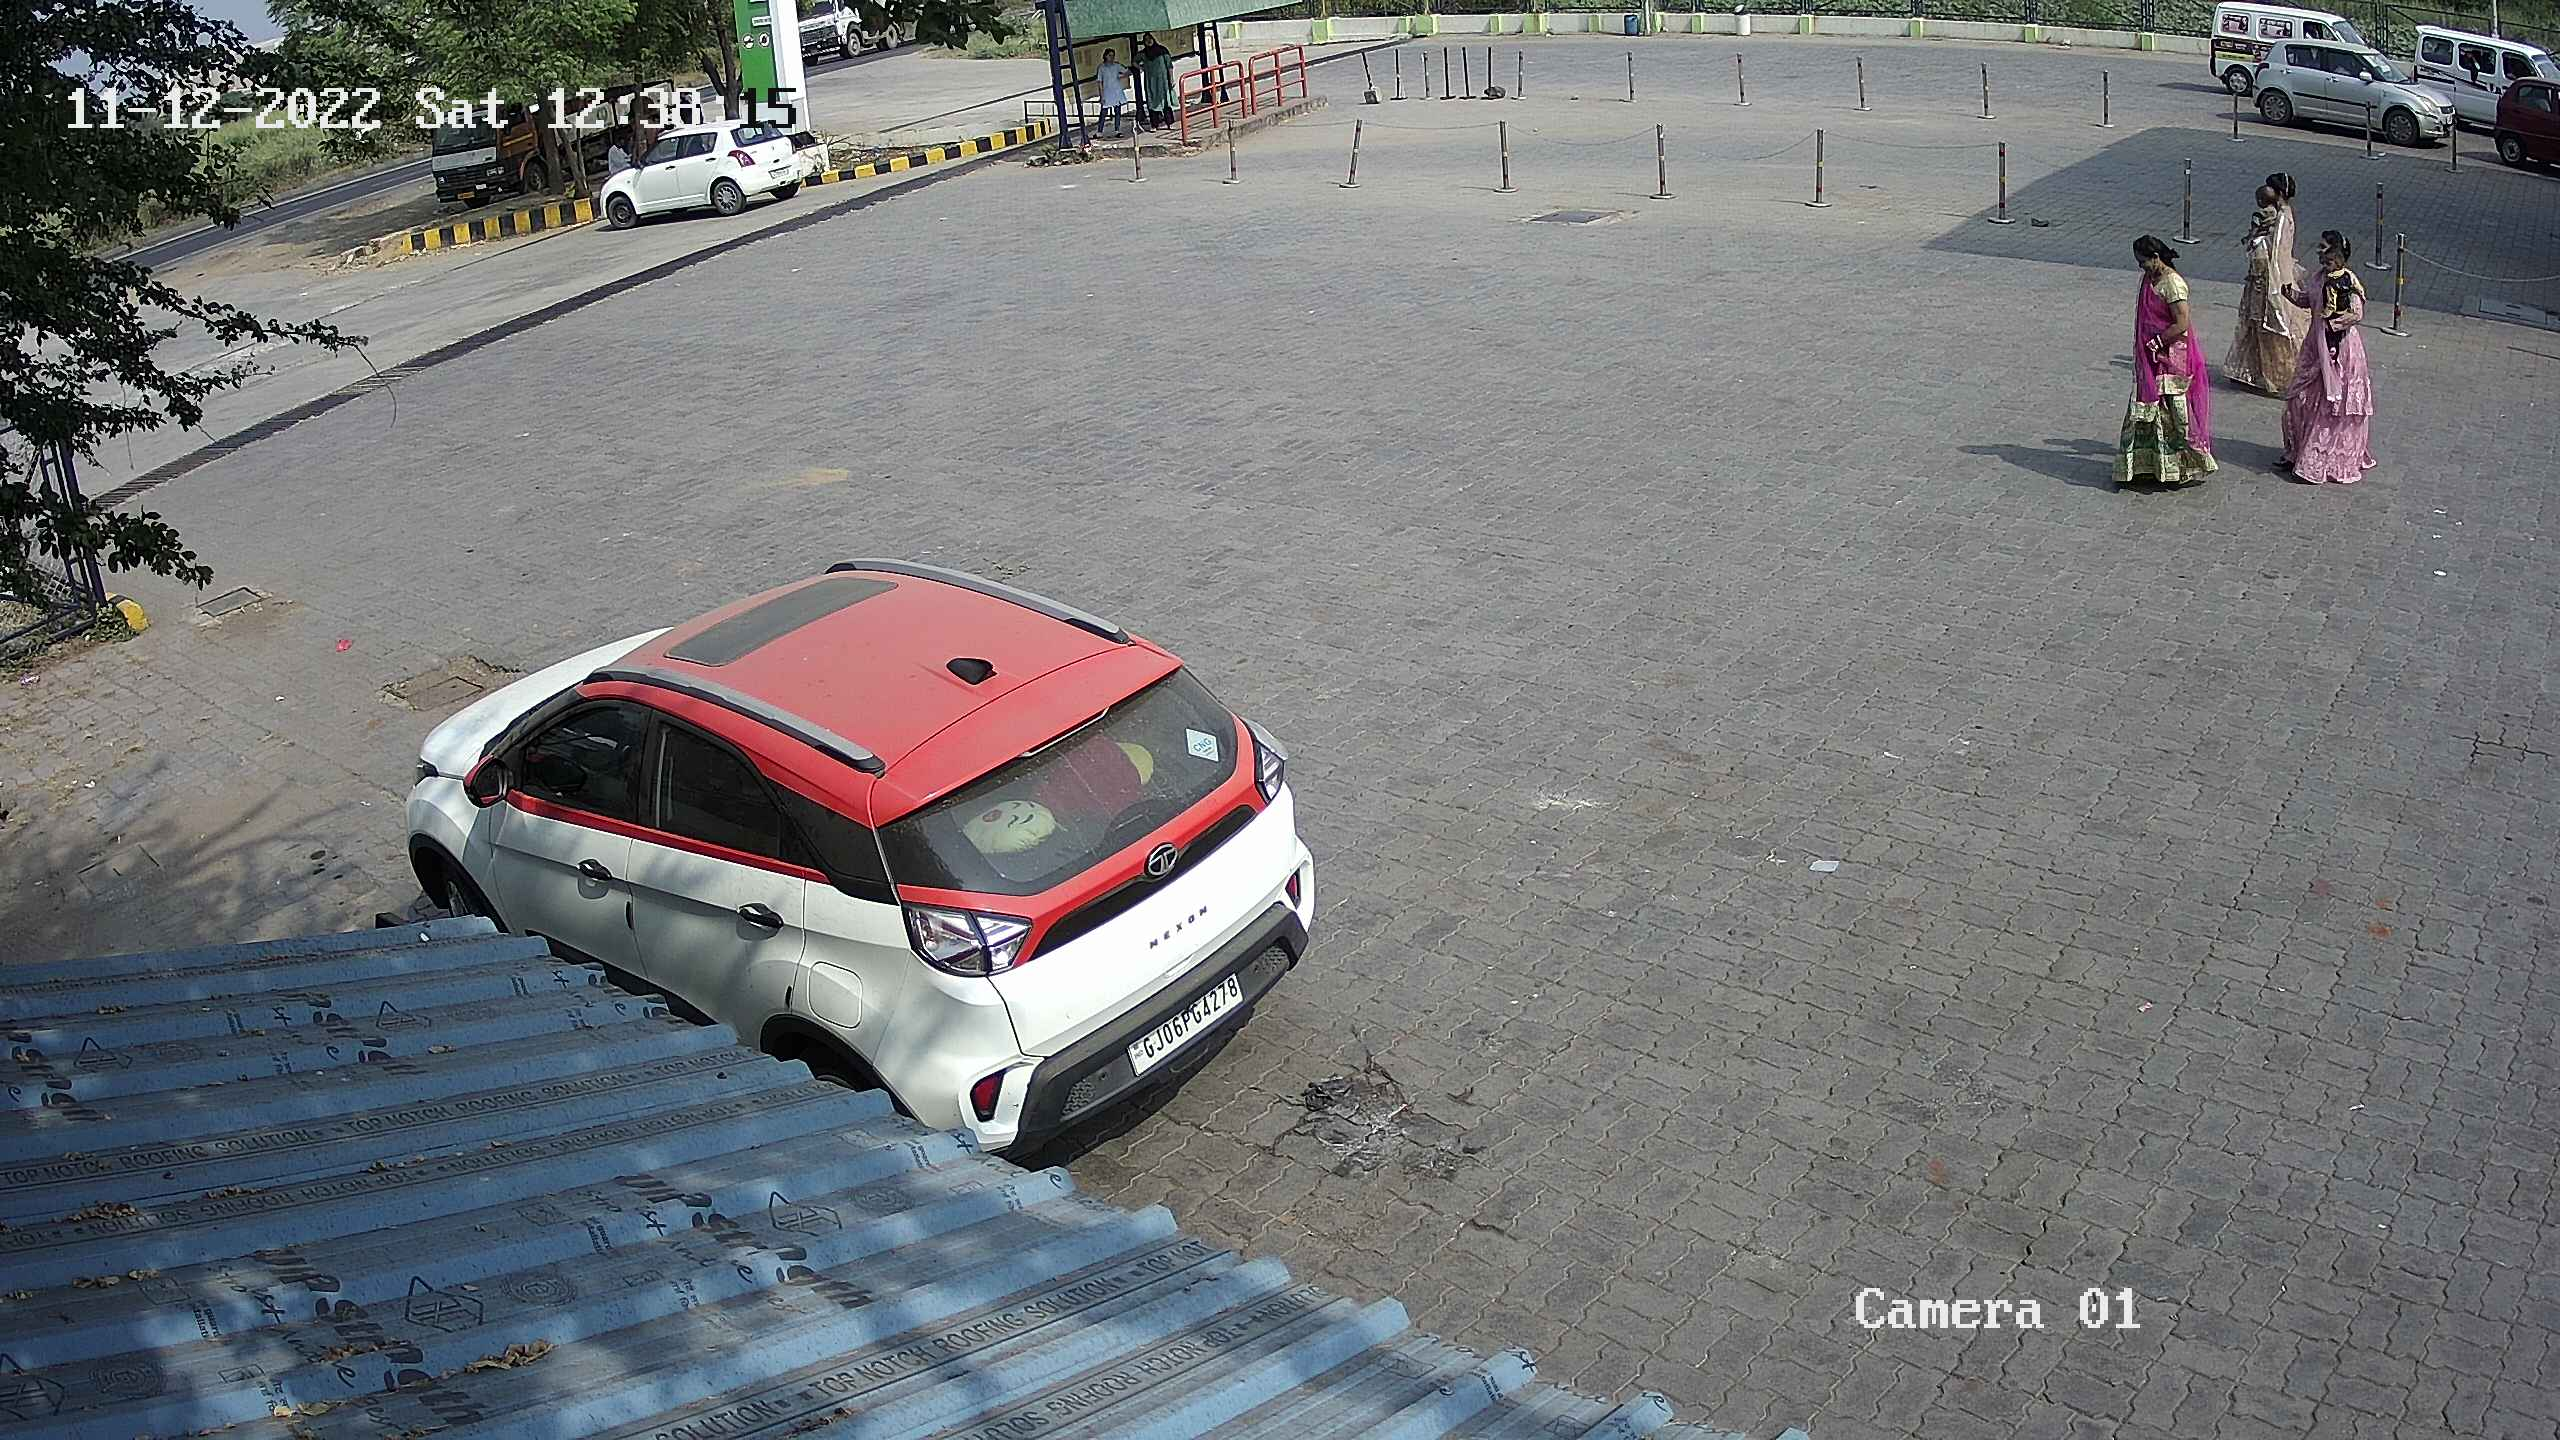Car: (380, 543, 1320, 1182), (584, 105, 823, 236), (2244, 26, 2460, 149), (2404, 16, 2558, 148), (2200, 0, 2381, 98), (2486, 69, 2558, 179)
HMV: (411, 67, 682, 215)
